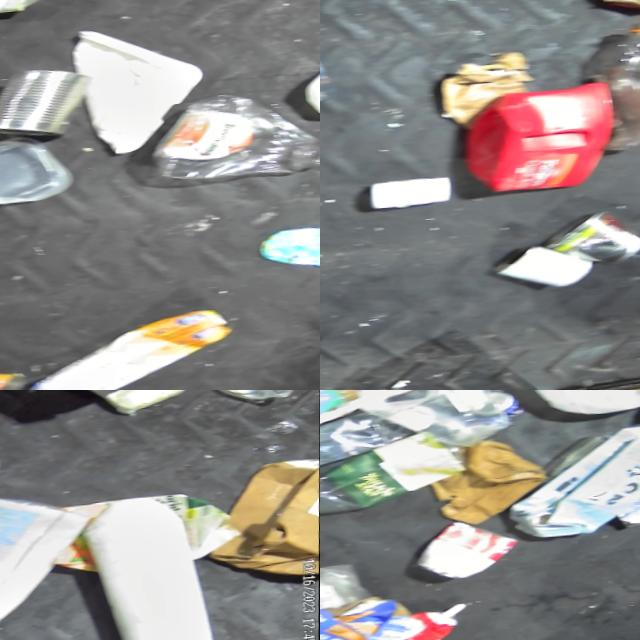can: (0, 63, 100, 143), (418, 518, 527, 585), (497, 240, 606, 294), (547, 209, 640, 272), (477, 390, 530, 422)
milk_jug: (0, 485, 107, 640), (506, 423, 640, 542)
non_white_jug: (13, 307, 245, 390), (466, 82, 622, 196)
plastic_bottle: (597, 20, 640, 153)
